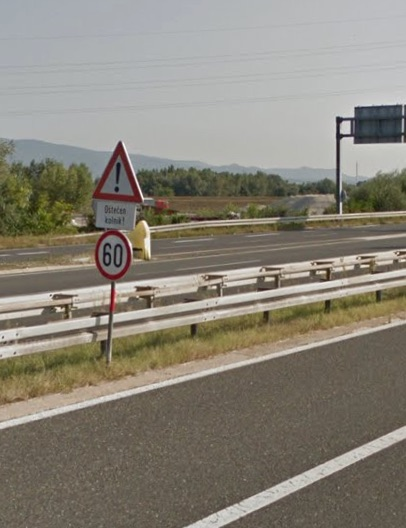Ograničenje brzine 60: (95, 230, 132, 280)
